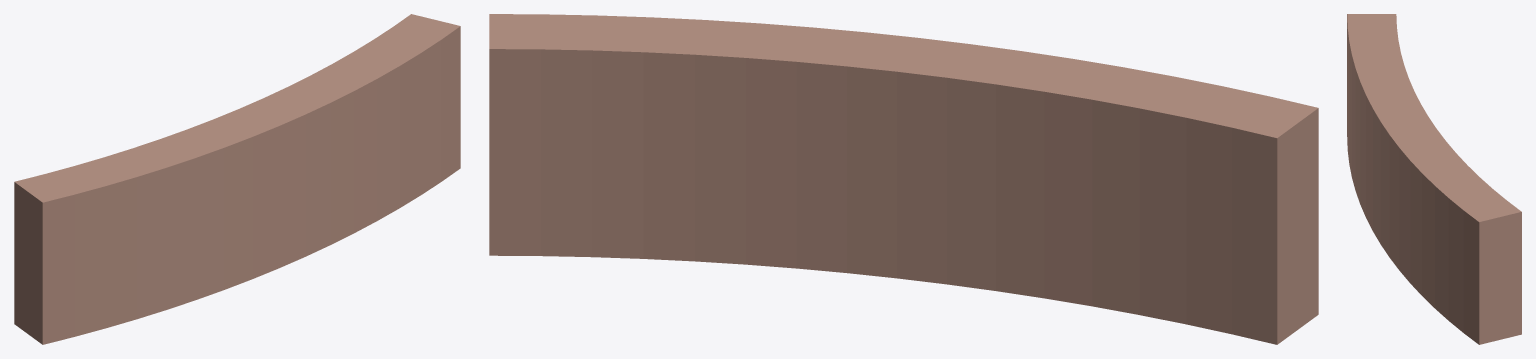
The model's file is ArcParapet_R4_A30.glb.
3 views of the same model, side by side, from view 1: azimuth 30°, elevation 25°; view 2: azimuth 150°, elevation 25°; view 3: azimuth 270°, elevation 25° (orthographic). The views are drawn at different scales.
Parts seen in each view (by area): view 1: PBK_Parapet.014; view 2: PBK_Parapet.014; view 3: PBK_Parapet.014.
Part boxes in pixels (x1=…): PBK_Parapet.014: x1=14, y1=14, x2=460, y2=344; PBK_Parapet.014: x1=489, y1=14, x2=1318, y2=344; PBK_Parapet.014: x1=1347, y1=14, x2=1521, y2=344.
Size of the model in its own units: 2 by 0.55 by 0.7091.
